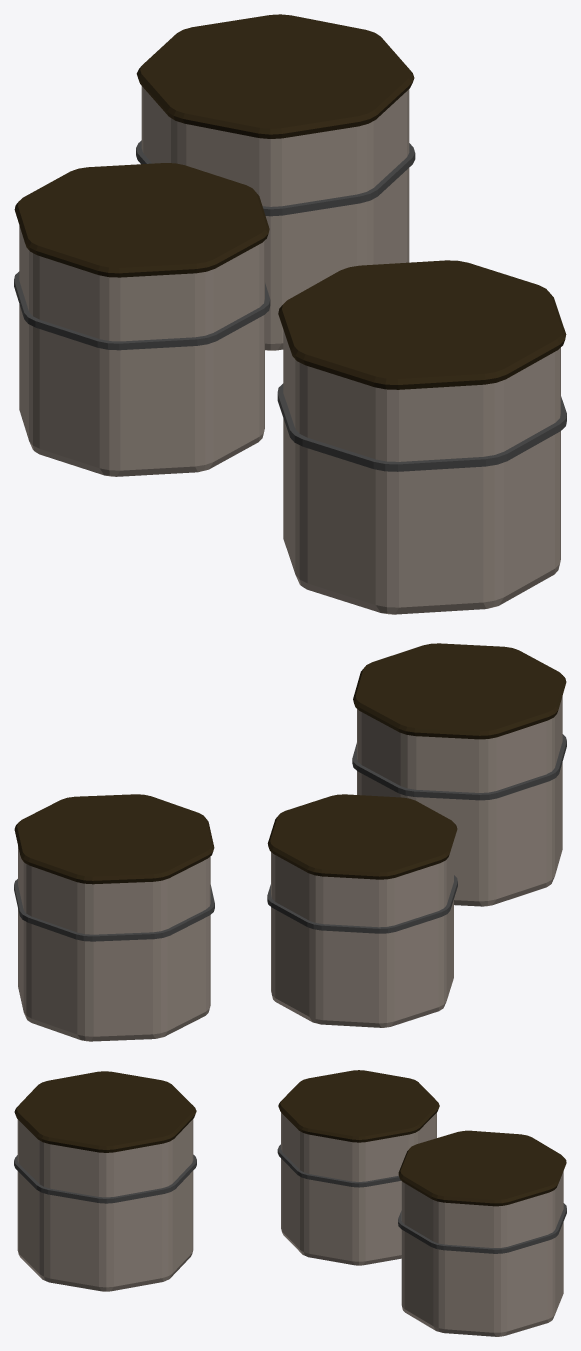
File: bucket.fbx
3 views of the same model, one above another, from view 1: azimuth 30°, elevation 25°; view 2: azimuth 150°, elevation 25°; view 3: azimuth 270°, elevation 25° (orthographic). The views are drawn at different scales.
Visible parts, largest first — view 1: Circle.002, Circle.036, Circle.011; view 2: Circle.011, Circle.002, Circle.036; view 3: Circle.002, Circle.011, Circle.036.
Part boxes in pixels (<box>): Circle.002: <box>277,260,566,614</box>; Circle.036: <box>14,163,270,476</box>; Circle.011: <box>136,14,415,350</box>; Circle.011: <box>14,794,214,1041</box>; Circle.002: <box>352,643,566,906</box>; Circle.036: <box>267,794,457,1027</box>; Circle.002: <box>14,1071,196,1291</box>; Circle.011: <box>398,1130,566,1336</box>; Circle.036: <box>277,1070,439,1265</box>.
Bounding box in the file's own units: 116 × 57.51 × 193.
